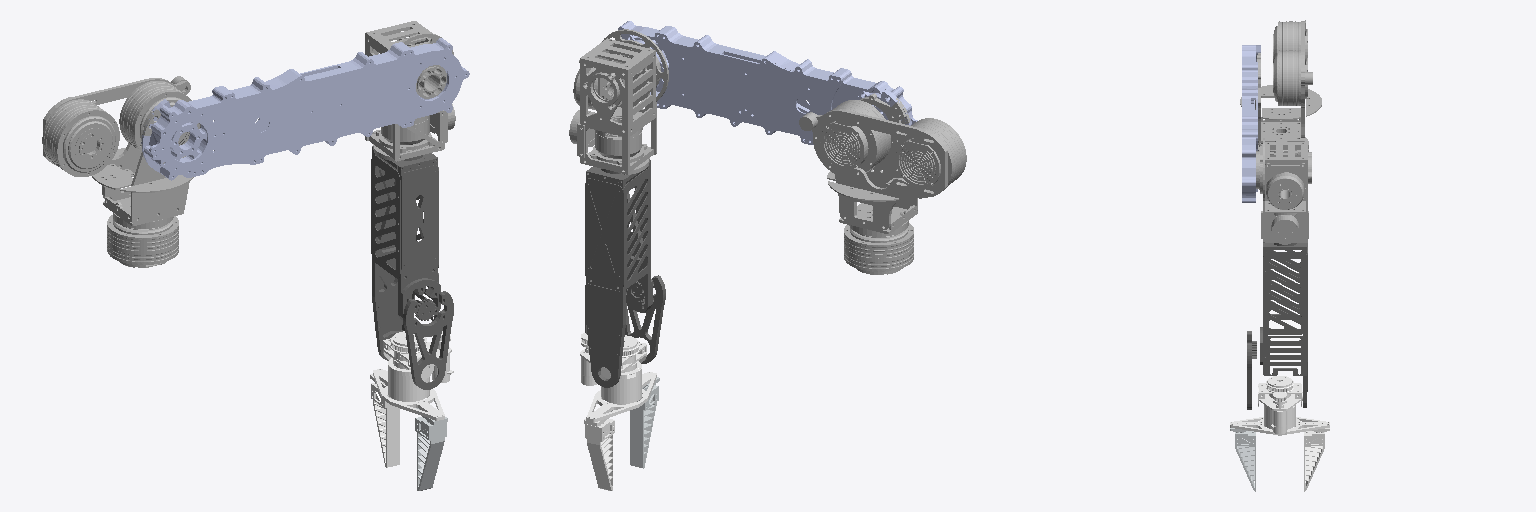
URDF robot description (arv_v2):
<?xml version="1.0" encoding="utf-8"?>
<!-- This URDF was automatically created by SolidWorks to URDF Exporter! Originally created by Stephen Brawner (brawner@gmail.com) 
     Commit Version: 1.6.0-4-g7f85cfe  Build Version: 1.6.7995.38578
     For more information, please see http://wiki.ros.org/sw_urdf_exporter -->
<robot
  name="arv_v2">
  <link
    name="base_link">
    <inertial>
      <origin
        xyz="-3.96062265210927E-05 4.06405754959547E-05 -0.0285876113334189"
        rpy="0 0 0" />
      <mass
        value="0.349525984991482" />
      <inertia
        ixx="0.000258276357567582"
        ixy="5.10875001153954E-10"
        ixz="1.14928164143574E-08"
        iyy="0.000258629195167637"
        iyz="-9.72936642265145E-09"
        izz="0.000395519919318191" />
    </inertial>
    <visual>
      <origin
        xyz="0 0 0"
        rpy="0 0 0" />
      <geometry>
        <mesh
          filename="../meshes/base_link.STL" />
      </geometry>
      <material
        name="">
        <color
          rgba="0.752941176470588 0.752941176470588 0.752941176470588 1" />
      </material>
    </visual>
    <collision>
      <origin
        xyz="0 0 0"
        rpy="0 0 0" />
      <geometry>
        <mesh
          filename="../meshes/base_link.STL" />
      </geometry>
    </collision>
  </link>
  <link
    name="link1">
    <inertial>
      <origin
        xyz="-0.0154999931132019 0.00790164285412029 0.10483558147126"
        rpy="0 0 0" />
      <mass
        value="1.22525961510696" />
      <inertia
        ixx="0.00126118311285526"
        ixy="4.17187198966648E-07"
        ixz="-9.13199961592474E-06"
        iyy="0.00217005077700243"
        iyz="1.19448129551445E-06"
        izz="0.00132467695230876" />
    </inertial>
    <visual>
      <origin
        xyz="0 0 0"
        rpy="0 0 0" />
      <geometry>
        <mesh
          filename="../meshes/link1.STL" />
      </geometry>
      <material
        name="">
        <color
          rgba="0.752941176470588 0.752941176470588 0.752941176470588 1" />
      </material>
    </visual>
    <collision>
      <origin
        xyz="0 0 0"
        rpy="0 0 0" />
      <geometry>
        <mesh
          filename="../meshes/link1.STL" />
      </geometry>
    </collision>
  </link>
  <joint
    name="joint1"
    type="revolute">
    <origin
      xyz="0 0 0"
      rpy="0 0 0" />
    <parent
      link="base_link" />
    <child
      link="link1" />
    <axis
      xyz="0 0 1" />
    <limit
      lower="-3.2"
      upper="3.2"
      effort="40"
      velocity="20" />
    <dynamics
      damping="0.3"
      friction="0.3" />
  </joint>
  <link
    name="link2">
    <inertial>
      <origin
        xyz="0.173164697778785 -0.000992870986536 0.0570377412581279"
        rpy="0 0 0" />
      <mass
        value="1.13036010199932" />
      <inertia
        ixx="0.00142587127922893"
        ixy="-2.2216196167755E-05"
        ixz="-6.82089241798455E-06"
        iyy="0.0161880134214926"
        iyz="-5.42767939874218E-06"
        izz="0.0175303272584084" />
    </inertial>
    <visual>
      <origin
        xyz="-0.03215 -0.131 0"
        rpy="0 0 0" />
      <geometry>
        <mesh
          filename="../meshes/link2.STL" />
      </geometry>
      <material
        name="">
        <color
          rgba="0.792156862745098 0.819607843137255 0.933333333333333 1" />
      </material>
    </visual>
    <collision>
      <origin
        xyz="-0.03215 -0.131 0"
        rpy="0 0 0" />
      <geometry>
        <mesh
          filename="../meshes/link2.STL" />
      </geometry>
    </collision>
  </link>
  <joint
    name="joint2"
    type="revolute">
    <origin
      xyz="0.03215 0 0.131"
      rpy="1.5707963267949 0 0" />
    <parent
      link="link1" />
    <child
      link="link2" />
    <axis
      xyz="0 0 1" />
    <limit
      lower="-3.2"
      upper="3.2"
      effort="40"
      velocity="20" />
    <dynamics
      damping="0.3"
      friction="0.3" />
  </joint>
  <link
    name="link3">
    <inertial>
      <origin
        xyz="0.012887110798264 -0.0441453868504749 0.00524746875047932"
        rpy="0 0 0" />
      <mass
        value="1.11704493186519" />
      <inertia
        ixx="0.000976386970855739"
        ixy="1.85504664047798E-06"
        ixz="1.70978398702784E-06"
        iyy="0.000728423622963117"
        iyz="2.32834239073376E-05"
        izz="0.00107316562710076" />
    </inertial>
    <visual>
      <origin
        xyz="0 0 0"
        rpy="0 0 0" />
      <geometry>
        <mesh
          filename="../meshes/link3.STL" />
      </geometry>
      <material
        name="">
        <color
          rgba="0.752941176470588 0.752941176470588 0.752941176470588 1" />
      </material>
    </visual>
    <collision>
      <origin
        xyz="0 0 0"
        rpy="0 0 0" />
      <geometry>
        <mesh
          filename="../meshes/link3.STL" />
      </geometry>
    </collision>
  </link>
  <joint
    name="joint3"
    type="revolute">
    <origin
      xyz="0.381000000000038 0 0"
      rpy="0 0 0" />
    <parent
      link="link2" />
    <child
      link="link3" />
    <axis
      xyz="0 0 -1" />
    <limit
      lower="-3.2"
      upper="3.2"
      effort="40"
      velocity="20" />
    <dynamics
      damping="0.3"
      friction="0.3" />
  </joint>
  <link
    name="link4">
    <inertial>
      <origin
        xyz="0.00131044404059455 0.000587890166251056 0.255422134338391"
        rpy="0 0 0" />
      <mass
        value="0.568849364384239" />
      <inertia
        ixx="0.00204398265333448"
        ixy="-1.14924633576366E-13"
        ixz="1.57901120558391E-07"
        iyy="0.0021528805437864"
        iyz="3.85072121760691E-07"
        izz="0.000272291667742801" />
    </inertial>
    <visual>
      <origin
        xyz="0 0 0"
        rpy="0 0 0" />
      <geometry>
        <mesh
          filename="../meshes/link4.STL" />
      </geometry>
      <material
        name="">
        <color
          rgba="0.498039215686275 0.498039215686275 0.498039215686275 1" />
      </material>
    </visual>
    <collision>
      <origin
        xyz="0 0 0"
        rpy="0 0 0" />
      <geometry>
        <mesh
          filename="../meshes/link4.STL" />
      </geometry>
    </collision>
  </link>
  <joint
    name="joint4"
    type="revolute">
    <origin
      xyz="0 0 0"
      rpy="1.5707963267949 0 0" />
    <parent
      link="link3" />
    <child
      link="link4" />
    <axis
      xyz="0 0 1" />
    <limit
      lower="-3.2"
      upper="3.2"
      effort="1.2"
      velocity="40" />
    <dynamics
      damping="0.3"
      friction="0.3" />
  </joint>
  <link
    name="link5">
    <inertial>
      <origin
        xyz="0.0160961942906923 0.000873845892292946 0.00896455872794405"
        rpy="0 0 0" />
      <mass
        value="0.100227688220142" />
      <inertia
        ixx="1.64507206172253E-05"
        ixy="6.42188110141514E-08"
        ixz="4.70615134188358E-08"
        iyy="2.7887161603753E-05"
        iyz="-1.04704234189188E-08"
        izz="1.65312587892601E-05" />
    </inertial>
    <visual>
      <origin
        xyz="0 0 0"
        rpy="0 0 0" />
      <geometry>
        <mesh
          filename="../meshes/link5.STL" />
      </geometry>
      <material
        name="">
        <color
          rgba="1 1 1 1" />
      </material>
    </visual>
    <collision>
      <origin
        xyz="0 0 0"
        rpy="0 0 0" />
      <geometry>
        <mesh
          filename="../meshes/link5.STL" />
      </geometry>
    </collision>
  </link>
  <joint
    name="joint5"
    type="revolute">
    <origin
      xyz="0.00129999999995989 -0.00719999999941014 0.43888820457198"
      rpy="-1.5707963267949 0 0" />
    <parent
      link="link4" />
    <child
      link="link5" />
    <axis
      xyz="0 0 -1" />
    <limit
      lower="-3.2"
      upper="3.2"
      effort="7"
      velocity="20" />
    <dynamics
      damping="0.2"
      friction="0.2" />
  </joint>
  <link
    name="link6">
    <inertial>
      <origin
        xyz="-1.71529457304587E-14 0.0093499999991507 0.0563050373172609"
        rpy="0 0 0" />
      <mass
        value="0.0590335082391964" />
      <inertia
        ixx="0.000102014457938577"
        ixy="3.25212808393783E-20"
        ixz="-1.34843408287629E-19"
        iyy="1.54663107387174E-05"
        iyz="-1.11463132074662E-19"
        izz="0.000117139186079753" />
    </inertial>
    <visual>
      <origin
        xyz="0 0 0"
        rpy="0 0 0" />
      <geometry>
        <mesh
          filename="../meshes/link6.STL" />
      </geometry>
      <material
        name="">
        <color
          rgba="1 1 1 1" />
      </material>
    </visual>
    <collision>
      <origin
        xyz="0 0 0"
        rpy="0 0 0" />
      <geometry>
        <mesh
          filename="../meshes/link6.STL" />
      </geometry>
    </collision>
  </link>
  <joint
    name="joint6"
    type="revolute">
    <origin
      xyz="0 0 0"
      rpy="1.57079632679552 0 0" />
    <parent
      link="link5" />
    <child
      link="link6" />
    <axis
      xyz="0 0 1" />
    <limit
      lower="-3.2"
      upper="3.2"
      effort="1"
      velocity="20" />
    <dynamics
      damping="0.3"
      friction="0.4" />
  </joint>
  <link
    name="link_gripper1">
    <inertial>
      <origin
        xyz="2.95056978849573E-10 -0.0510942800009356 0.0859279675185114"
        rpy="0 0 0" />
      <mass
        value="0.0581710450017314" />
      <inertia
        ixx="3.4674527762254E-05"
        ixy="4.86368595821573E-20"
        ixz="2.23468640635515E-19"
        iyy="2.93632328262258E-05"
        iyz="-4.09085264602205E-06"
        izz="1.14492002585401E-05" />
    </inertial>
    <visual>
      <origin
        xyz="0 0 0"
        rpy="0 0 0" />
      <geometry>
        <mesh
          filename="../meshes/link_gripper1.STL" />
      </geometry>
      <material
        name="">
        <color
          rgba="1 1 1 1" />
      </material>
    </visual>
    <collision>
      <origin
        xyz="0 0 0"
        rpy="0 0 0" />
      <geometry>
        <mesh
          filename="../meshes/link_gripper1.STL" />
      </geometry>
    </collision>
  </link>
  <joint
    name="joint_gripper1"
    type="prismatic">
    <origin
      xyz="0 0 0"
      rpy="0 0 0" />
    <parent
      link="link6" />
    <child
      link="link_gripper1" />
    <axis
      xyz="0 1 0" />
    <limit
      lower="0"
      upper="0.04"
      effort="7"
      velocity="0" />
    <dynamics
      damping="0.5"
      friction="0.5" />
  </joint>
  <link
    name="link_gripper2">
    <inertial>
      <origin
        xyz="6.38378239159465E-15 0.0697942805013251 0.0859376907229839"
        rpy="0 0 0" />
      <mass
        value="0.0581710450017313" />
      <inertia
        ixx="3.46745277622539E-05"
        ixy="-4.04009299365662E-20"
        ixz="2.22481464306674E-19"
        iyy="2.93632328262258E-05"
        iyz="4.09085264602213E-06"
        izz="1.14492002585401E-05" />
    </inertial>
    <visual>
      <origin
        xyz="0 0 0"
        rpy="0 0 0" />
      <geometry>
        <mesh
          filename="../meshes/link_gripper2.STL" />
      </geometry>
      <material
        name="">
        <color
          rgba="0.898039215686275 0.917647058823529 0.929411764705882 1" />
      </material>
    </visual>
    <collision>
      <origin
        xyz="0 0 0"
        rpy="0 0 0" />
      <geometry>
        <mesh
          filename="../meshes/link_gripper2.STL" />
      </geometry>
    </collision>
  </link>
  <joint
    name="joint_gripper2"
    type="prismatic">
    <origin
      xyz="0 0 0"
      rpy="0 0 0" />
    <parent
      link="link6" />
    <child
      link="link_gripper2" />
    <axis
      xyz="0 1 0" />
    <limit
      lower="-0.04"
      upper="0"
      effort="7"
      velocity="0" />
    <dynamics
      damping="0.5"
      friction="0.5" />
    <mimic
      joint="joint_gripper1"
      multiplier="-1"
      offset="0" />
  </joint>
</robot>

--- Facts derived from the render (not from the file) ---
Views: 3 orthographic renders of the robot side by side, from view 1: azimuth 30°, elevation 25°; view 2: azimuth 150°, elevation 25°; view 3: azimuth 270°, elevation 25°.
Robot: arv_v2 — 9 links, 8 joints (6 revolute, 2 prismatic); root link base_link; default pose: all joints at 0.
Links seen in each view (by area): view 1: link2, link4, link1, link3, base_link, link5, link_gripper2, link_gripper1, link6; view 2: link1, link2, link4, link3, base_link, link5, link_gripper1, link_gripper2, link6; view 3: link4, link1, link3, link2, link5, link_gripper1, link_gripper2, link6.
Link boxes in pixels (x1,y1,x2,y2): link2: (141,38,469,180); link4: (371,141,453,389); link1: (42,76,200,228); link3: (365,21,455,161); base_link: (107,215,178,267); link5: (383,331,453,401); link_gripper2: (415,408,447,490); link_gripper1: (370,374,399,467); link6: (373,369,444,420); link1: (799,93,966,236); link2: (618,21,917,144); link4: (585,155,665,387); link3: (569,29,668,174); base_link: (844,223,913,274); link5: (580,333,646,403); link_gripper1: (584,410,614,490); link_gripper2: (630,377,659,468); link6: (586,372,656,422); link4: (1247,243,1307,409); link1: (1240,20,1321,143); link3: (1256,138,1311,244); link2: (1242,45,1260,202); link5: (1258,376,1302,433); link_gripper1: (1304,428,1329,491); link_gripper2: (1230,428,1255,491); link6: (1230,417,1329,435).
Size in the robot's own frame: 0.6166 by 0.175 by 0.6764 metres.
9 mesh visuals loaded from 9 distinct referenced files (9 binary STL).
